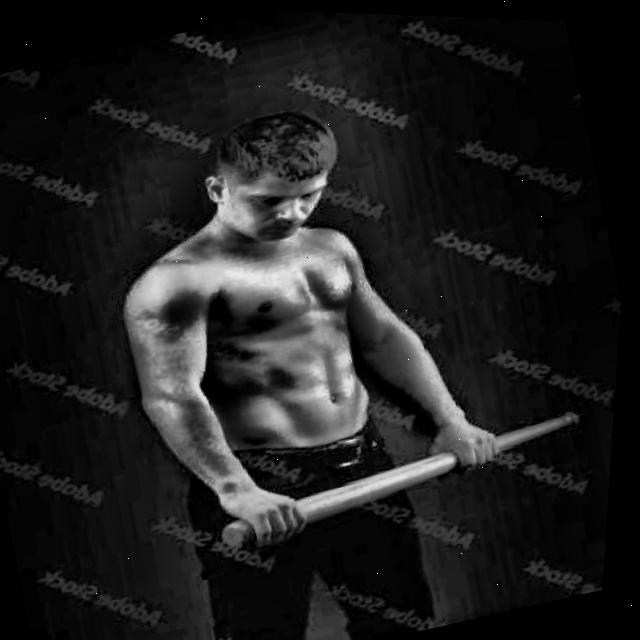tongkat pemukul: (217, 401, 593, 547)
